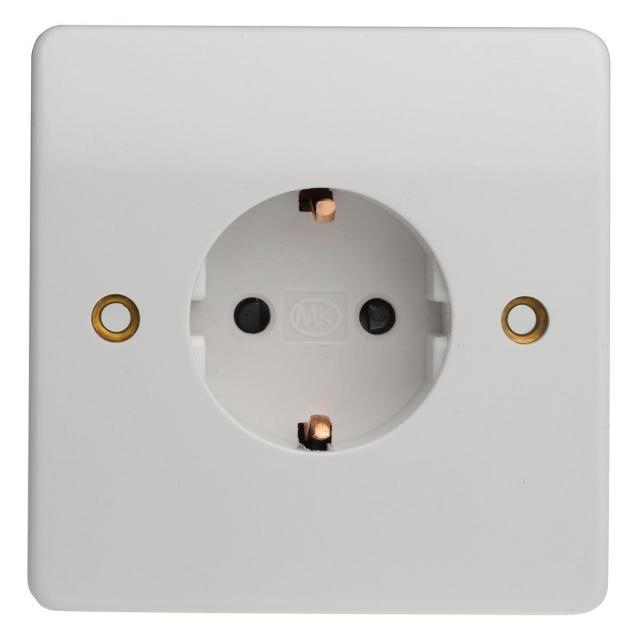typeb: (18, 16, 629, 620)
